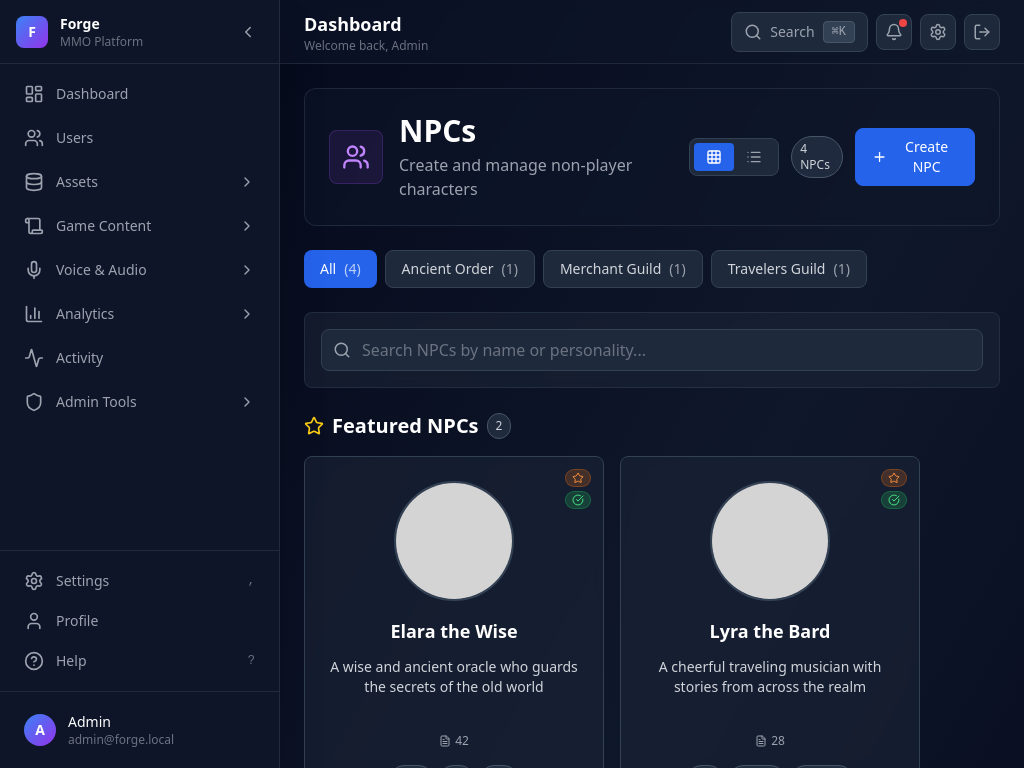
Test: NPCsPage - Integration Tests › AI NPC Generation › shows AI generation option in create modal
The image size is (1024, 768).
Expected: the heading "Elara the Wise" is shown, top-left (390, 619), bottom-right (518, 643)
Click the button "Create NPC" at x=915, y=157, box top-left (855, 128), bottom-right (975, 186)
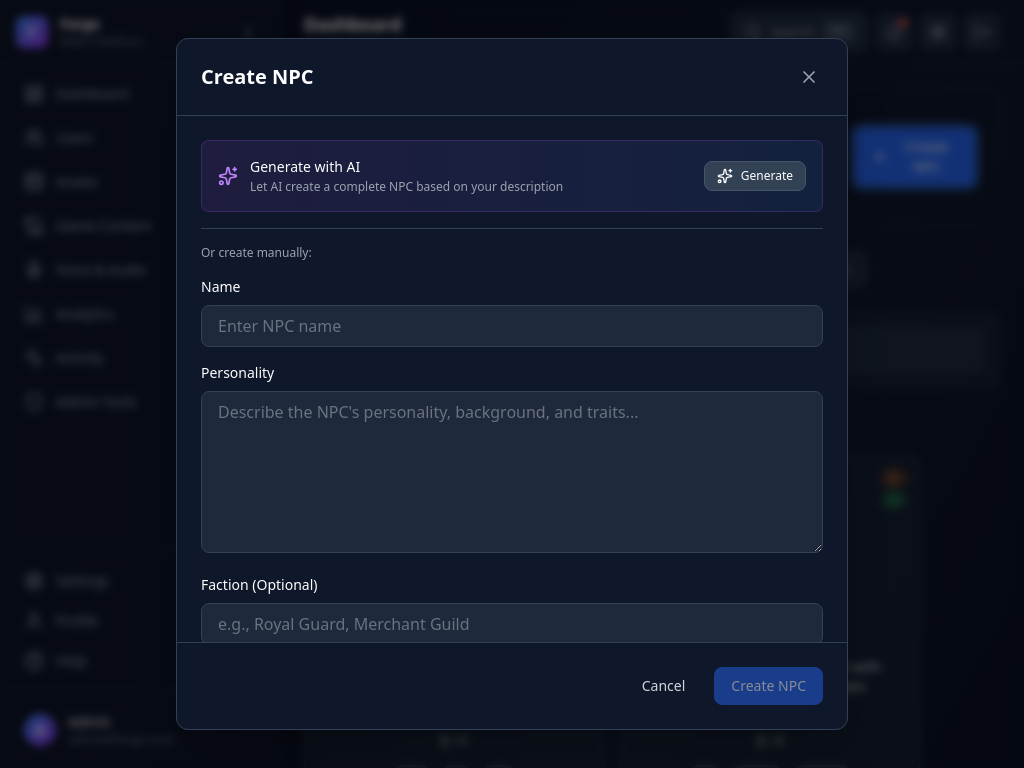
Expected: the heading "Generate with AI" is shown, top-left (250, 157), bottom-right (360, 176)
Expected: the text "Let AI create a complete NPC based on your description" is shown, top-left (250, 179), bottom-right (563, 195)
